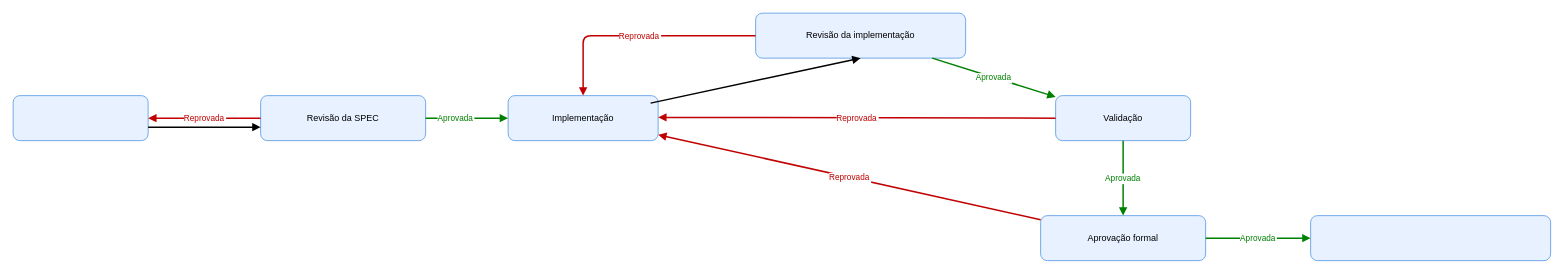
Image size: 1564x274. Some labels were removed from this diagram. Here are the shapes that lost their labels. From the top down, the centre of each, then its label:
At (x=80, y=118): "Especificação".
At (x=1430, y=238): "Encerramento e arquivamento".
